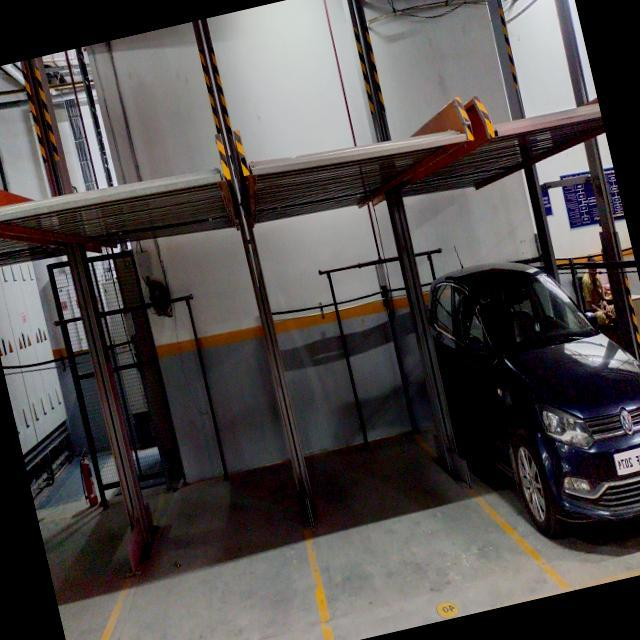car: (486, 283, 640, 562)
free: (312, 396, 500, 638), (146, 479, 319, 640)
